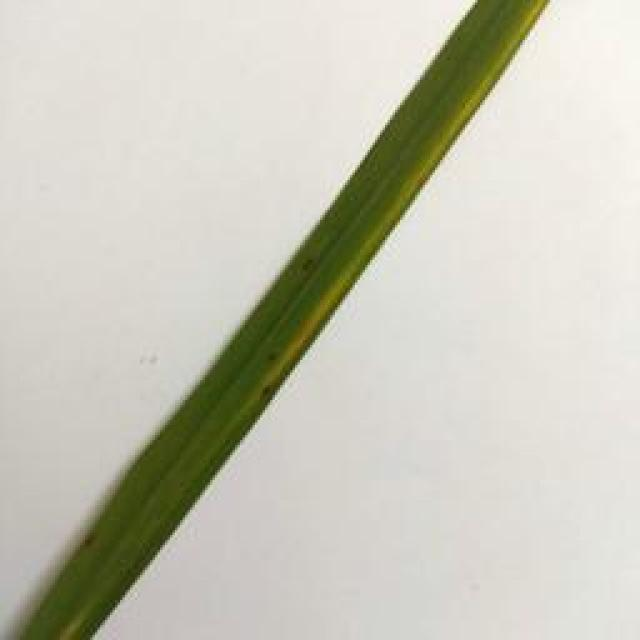Brown_Spot: (256, 336, 290, 369), (75, 525, 109, 557), (290, 255, 318, 289), (250, 380, 285, 400)
